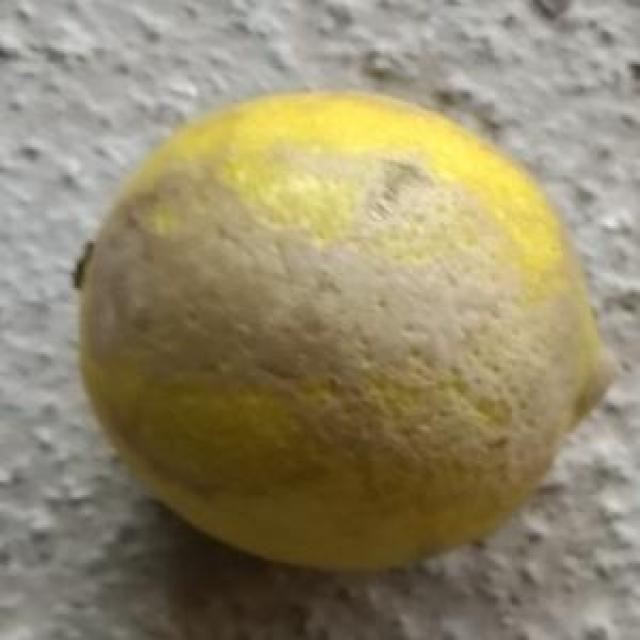lemon: (70, 85, 612, 576)
